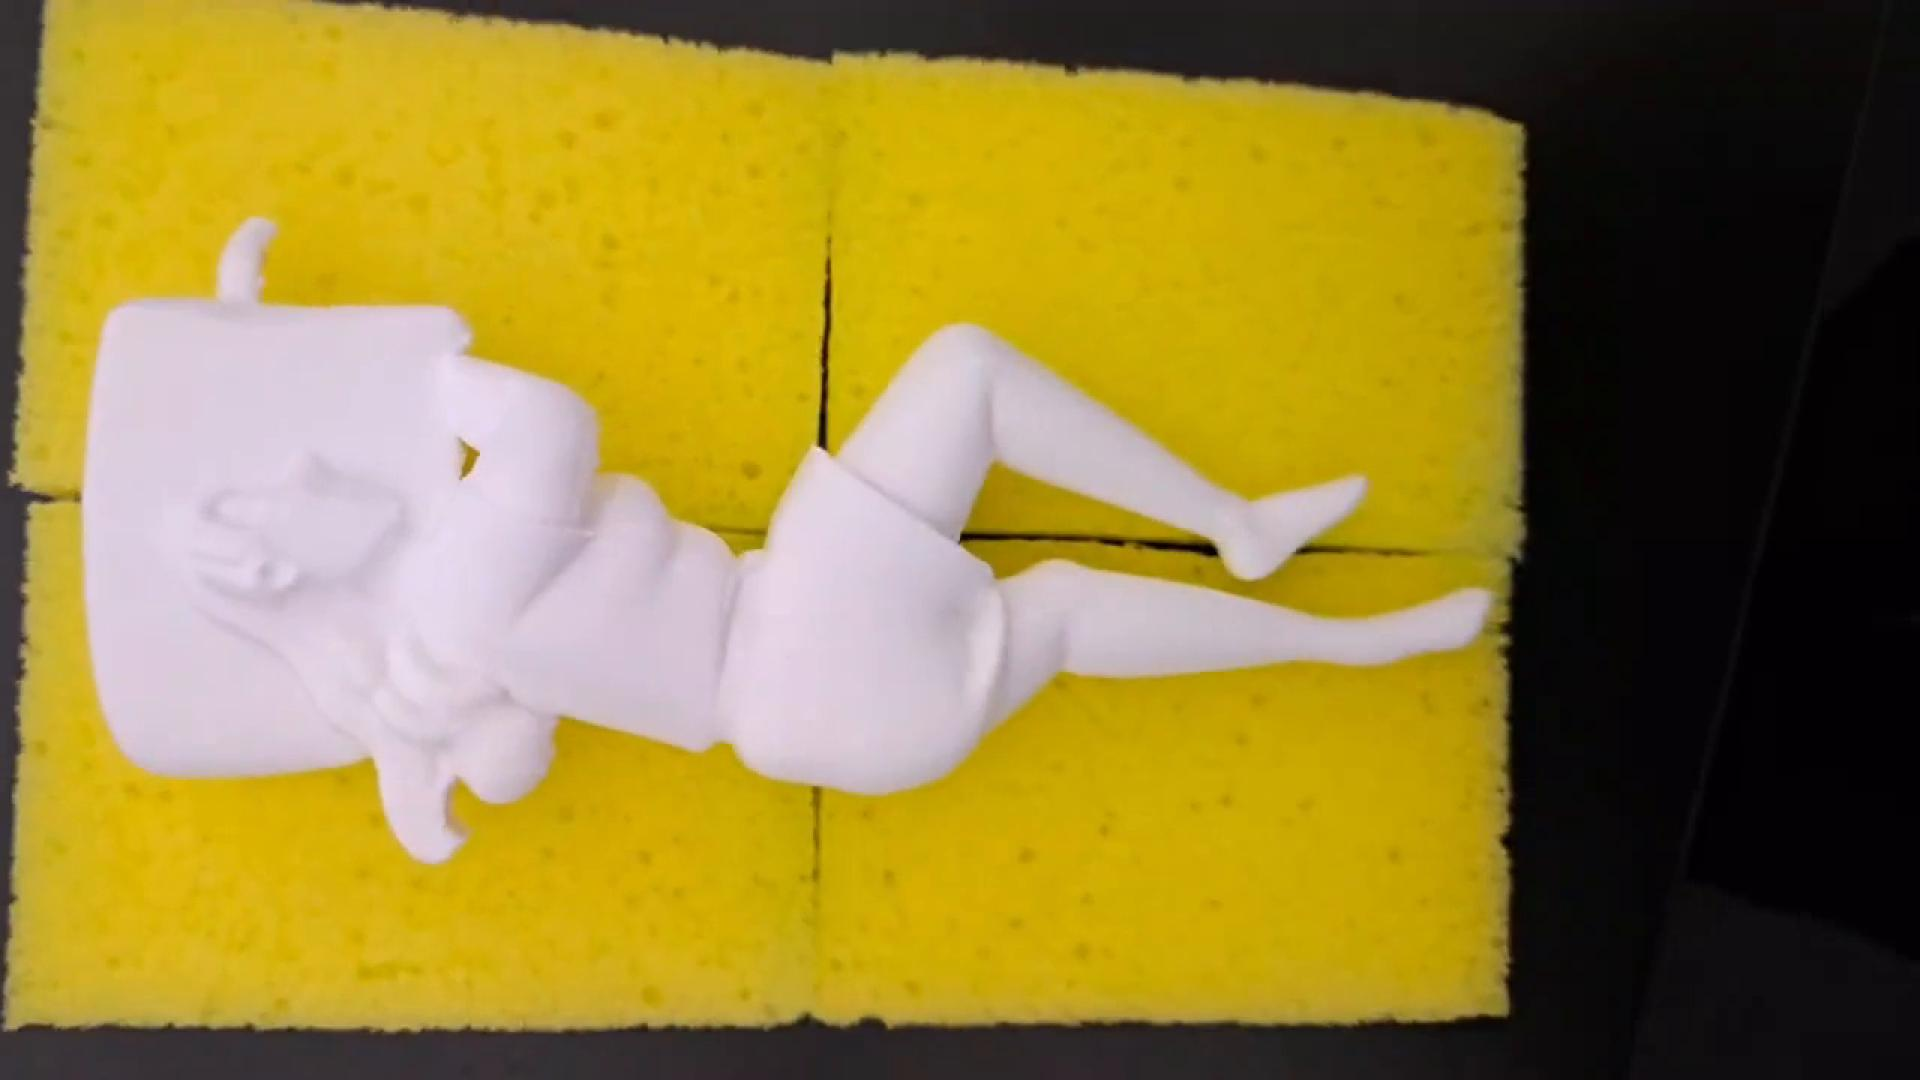Good-style: (83, 204, 1501, 873)
